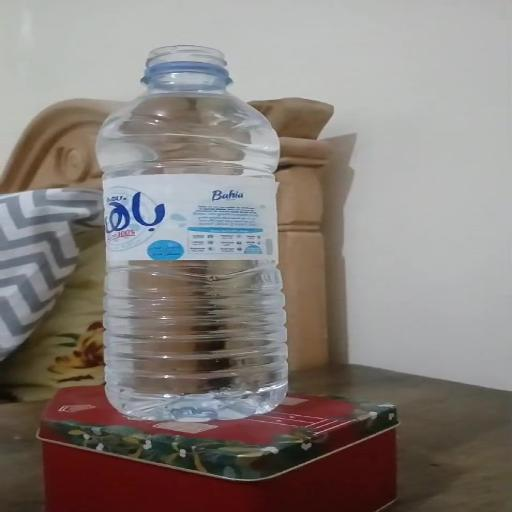bouteille non conformite: (145, 30, 291, 110)
